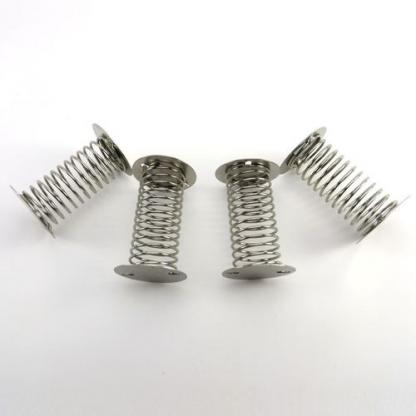FOD: (280, 124, 411, 249), (5, 122, 131, 241), (111, 152, 198, 289), (214, 157, 294, 281)
